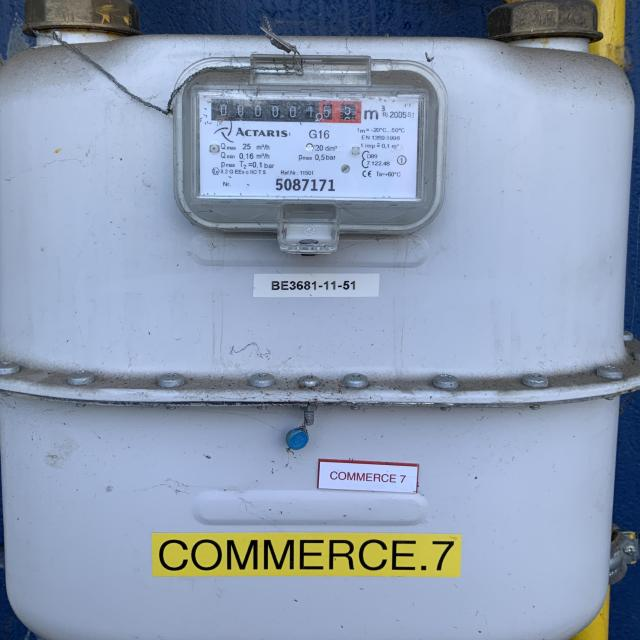gaz_meter: (195, 92, 421, 199)
indication: (209, 100, 362, 124)
